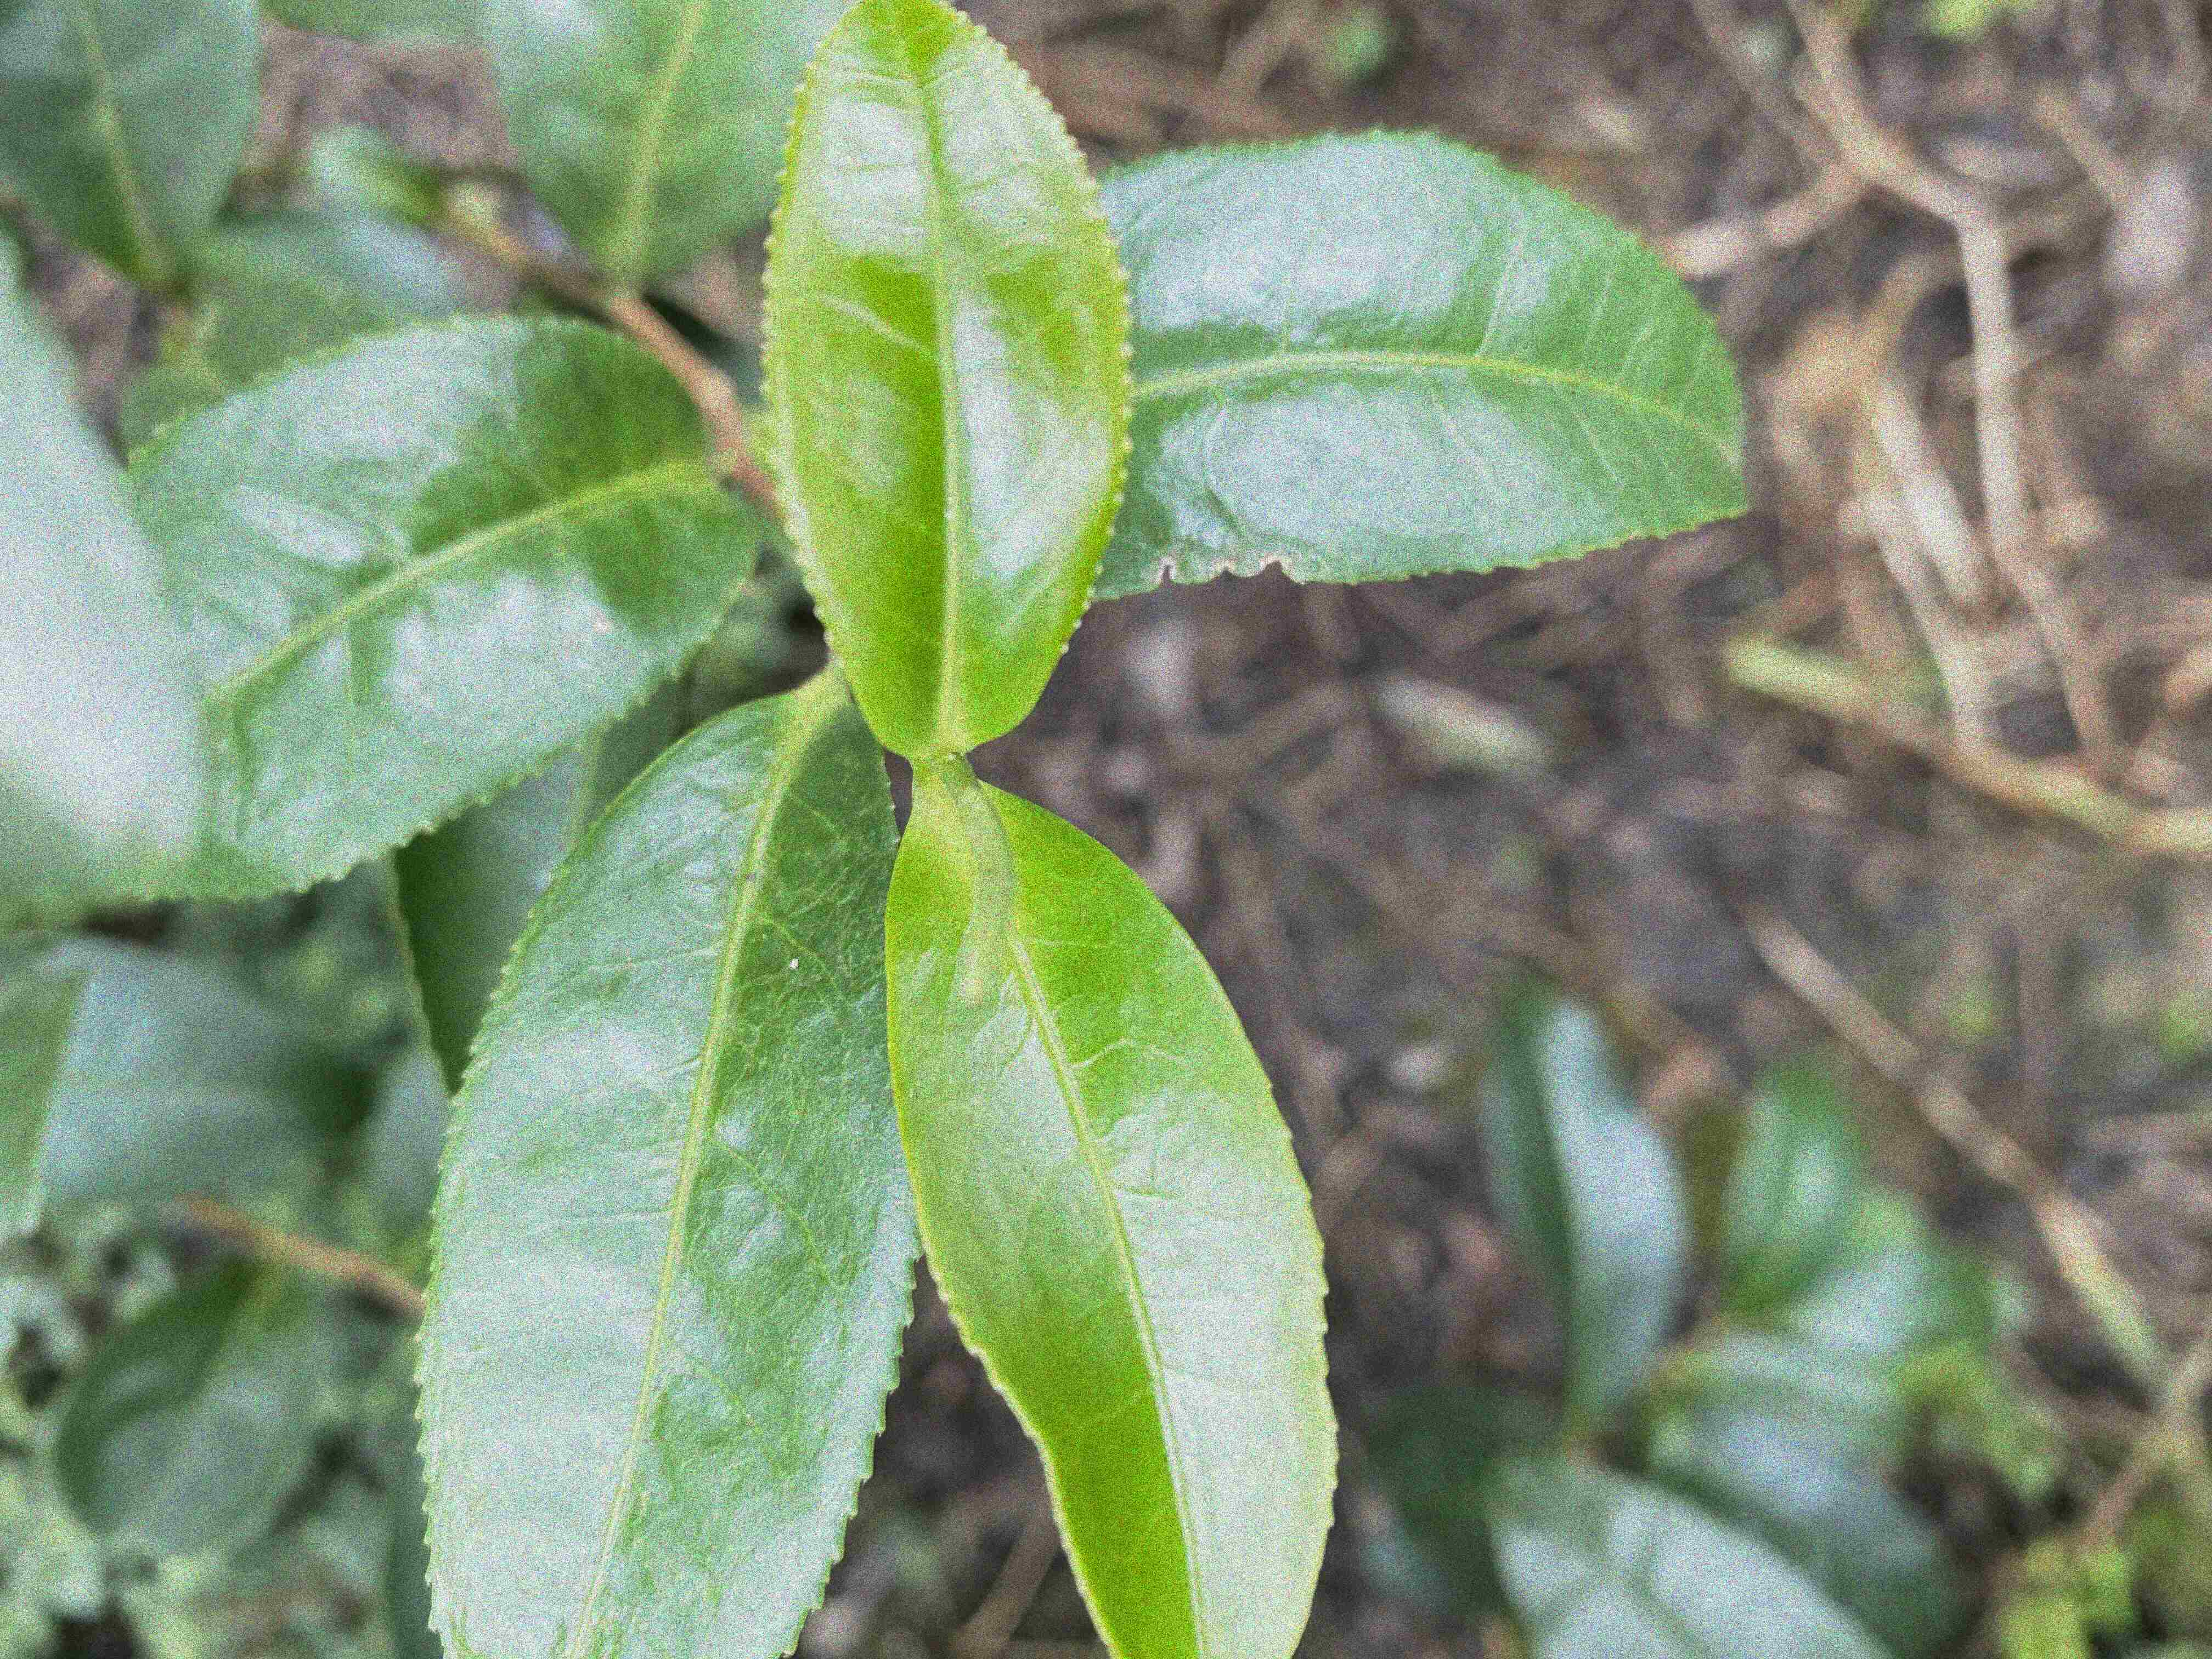chihuo_high: (1092, 125, 1754, 608)
healthy: (402, 690, 921, 1657), (880, 767, 1341, 1657), (759, 5, 1134, 760)
